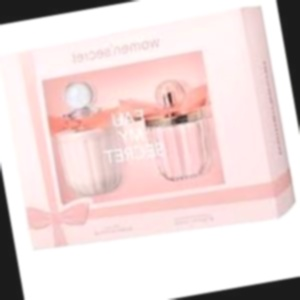women_secret: (142, 15, 205, 46)
